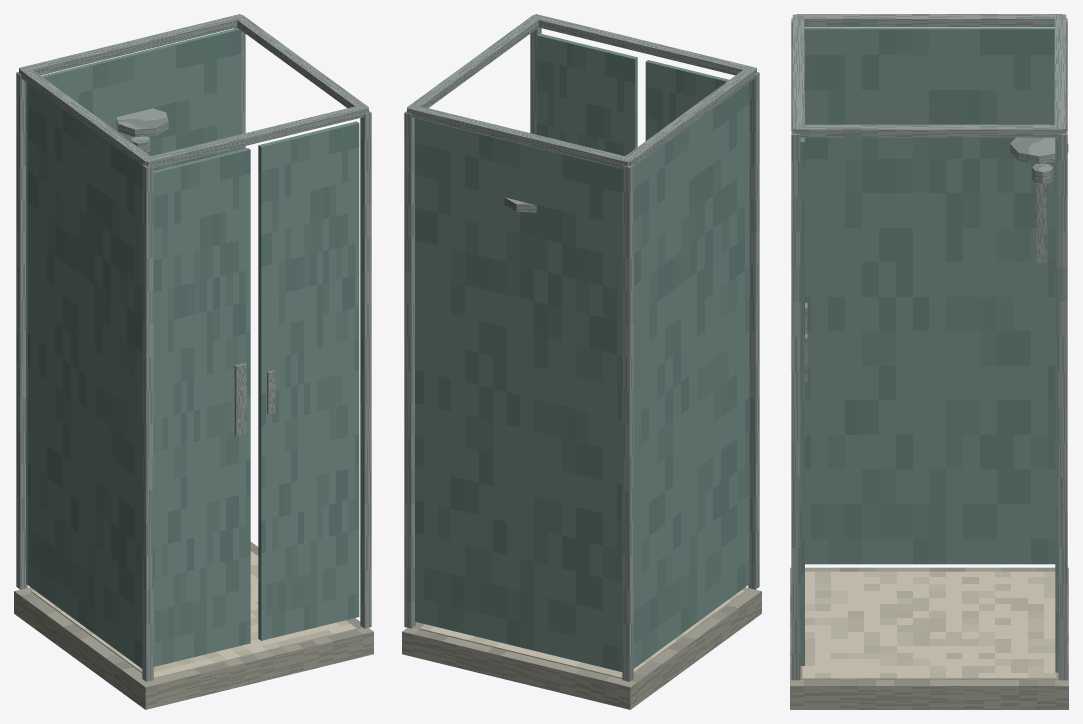
File: cabina_ducha.glb
The picture shows the model from 3 angles, left to right: view 1: azimuth 30°, elevation 25°; view 2: azimuth 150°, elevation 25°; view 3: azimuth 270°, elevation 25°; orthographic projection. The views are drawn at different scales.
Visible parts, largest first — view 1: cabina_ducha; view 2: cabina_ducha; view 3: cabina_ducha.
Boxes of the visible parts, <box> form: cabina_ducha: <box>14,14,373,709</box>; cabina_ducha: <box>402,14,761,709</box>; cabina_ducha: <box>790,14,1068,709</box>.
Bounding box in the file's own units: 0.9632 × 2.2 × 0.9601.
1 material, 1 textured.
